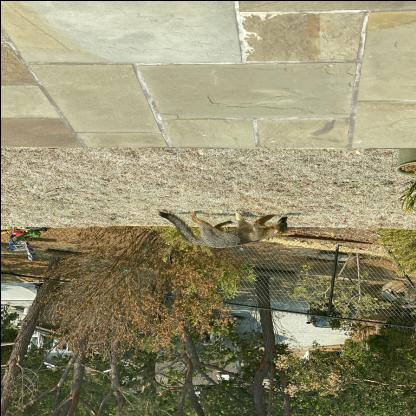zorro: (157, 208, 295, 250)
